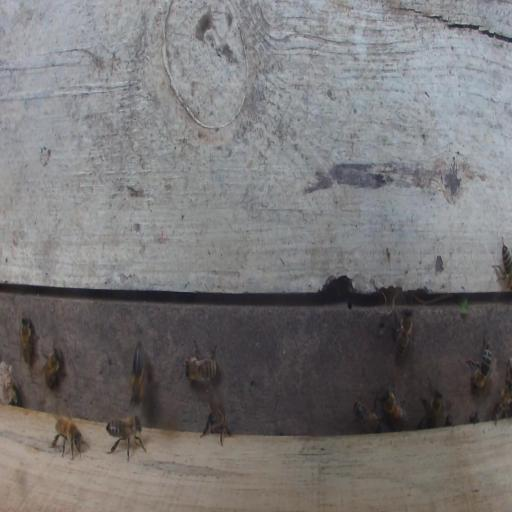Insects: (48, 400, 91, 461), (104, 407, 149, 464), (379, 374, 412, 433), (185, 334, 221, 385), (199, 394, 232, 448), (463, 331, 492, 390), (388, 304, 414, 359), (38, 337, 62, 393), (351, 394, 384, 434), (490, 233, 511, 292), (18, 314, 41, 366), (418, 387, 444, 431), (130, 339, 146, 406), (490, 380, 512, 427)
